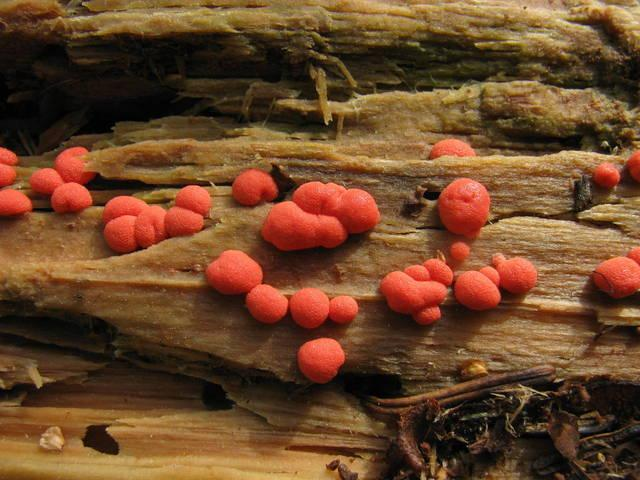Non-edible Mushroom: (1, 133, 637, 386), (259, 179, 380, 251), (435, 176, 491, 237), (204, 248, 263, 295), (295, 336, 346, 384), (590, 254, 638, 299), (230, 167, 279, 206)
